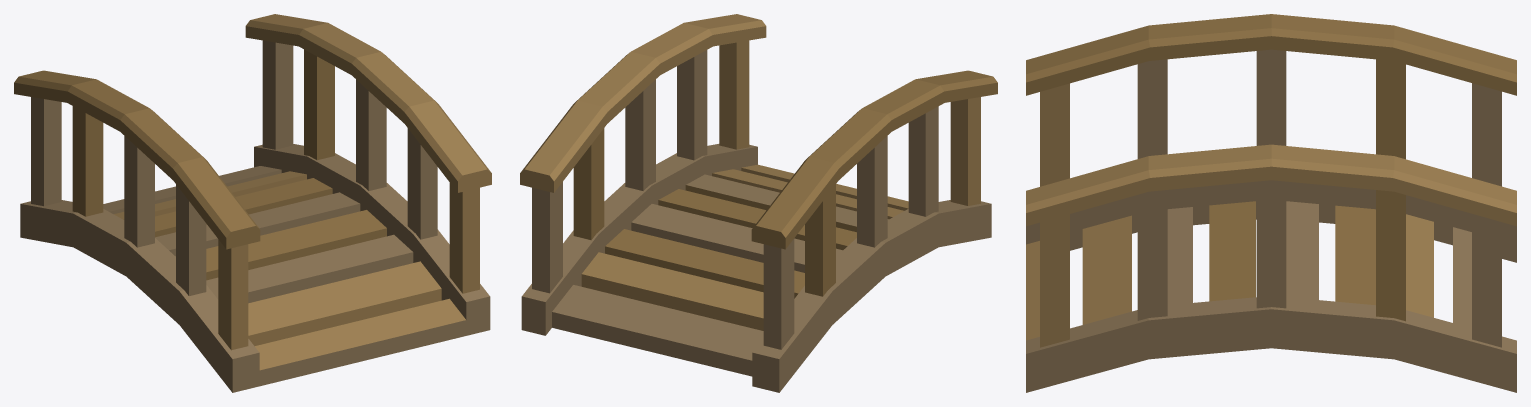
File: Bridge.fbx
3 renders of one model, left to right at view 1: azimuth 30°, elevation 25°; view 2: azimuth 150°, elevation 25°; view 3: azimuth 270°, elevation 25°, orthographic. The views are drawn at different scales.
Visible parts, largest first — view 1: Bridge1; view 2: Bridge1; view 3: Bridge1.
Boxes of the visible parts, x1,y1,x2,y2 form: Bridge1: (14, 14, 491, 392); Bridge1: (520, 14, 997, 392); Bridge1: (1026, 14, 1516, 392).
Size of the model in its own units: 11.83 by 8.57 by 16.38.
